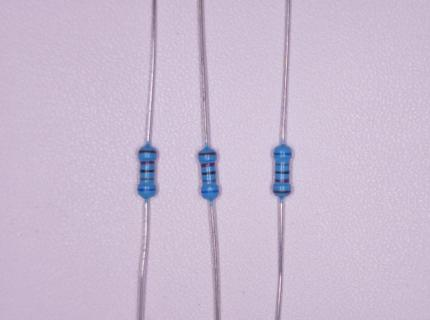Black band: (202, 171, 217, 175), (140, 170, 154, 173), (275, 171, 289, 174)
Blue band: (201, 190, 219, 193), (274, 152, 292, 155), (138, 188, 155, 191)
Brown band: (273, 190, 292, 193), (138, 150, 156, 153), (199, 152, 216, 155)
Grey band: (202, 179, 216, 182), (141, 178, 154, 181), (276, 163, 289, 166)
Red band: (201, 163, 216, 167), (141, 161, 155, 165), (276, 179, 290, 183)
